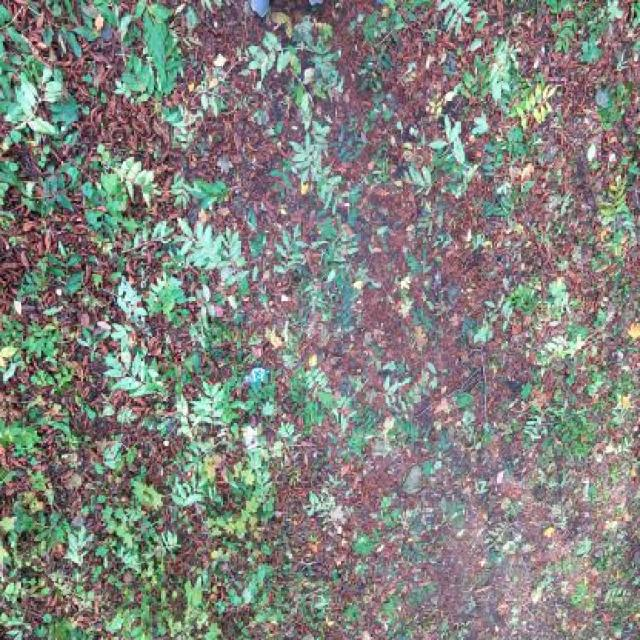Garbage: (369, 256, 398, 273)
